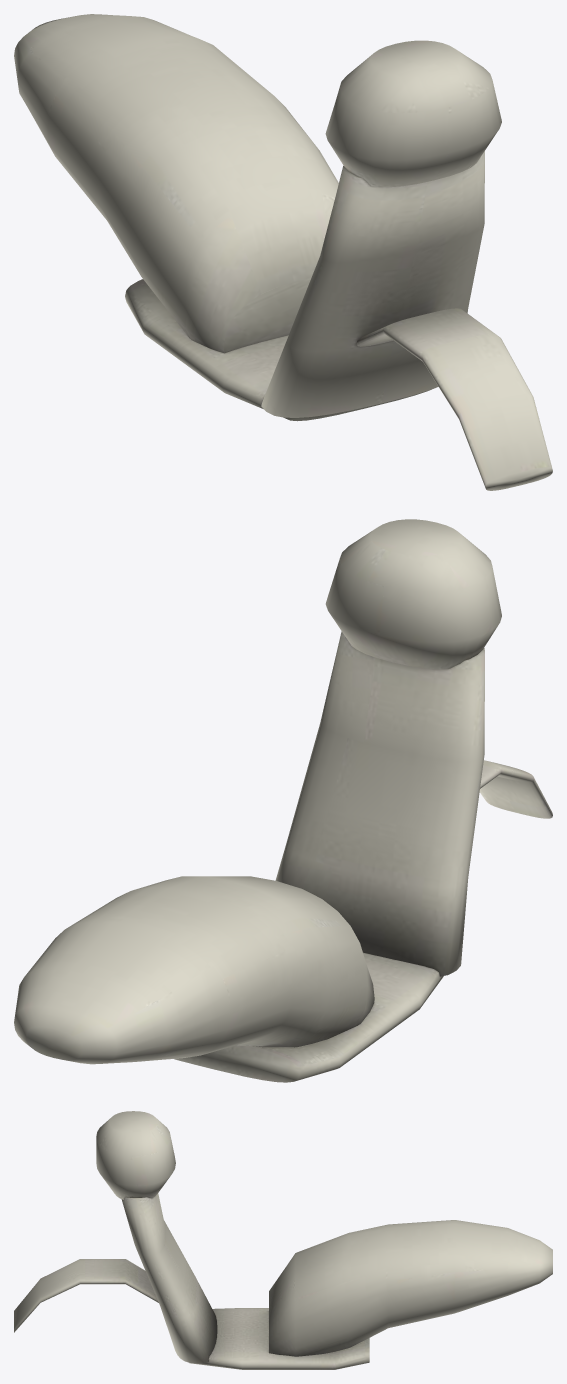
The model's file is scooter_paint.glb.
The picture shows the model from 3 angles, top to bottom: view 1: azimuth 30°, elevation 25°; view 2: azimuth 150°, elevation 25°; view 3: azimuth 270°, elevation 25°; orthographic projection. The views are drawn at different scales.
Visible parts, largest first — view 1: scooter_paint; view 2: scooter_paint; view 3: scooter_paint.
Boxes of the visible parts, x1,y1,x2,y2 form: scooter_paint: (14,14,552,490); scooter_paint: (14,519,552,1082); scooter_paint: (14,1111,552,1369).
Bounding box in the file's own units: 0.5 × 0.98 × 2.03.
Materials: 1 (1 with a texture image).
